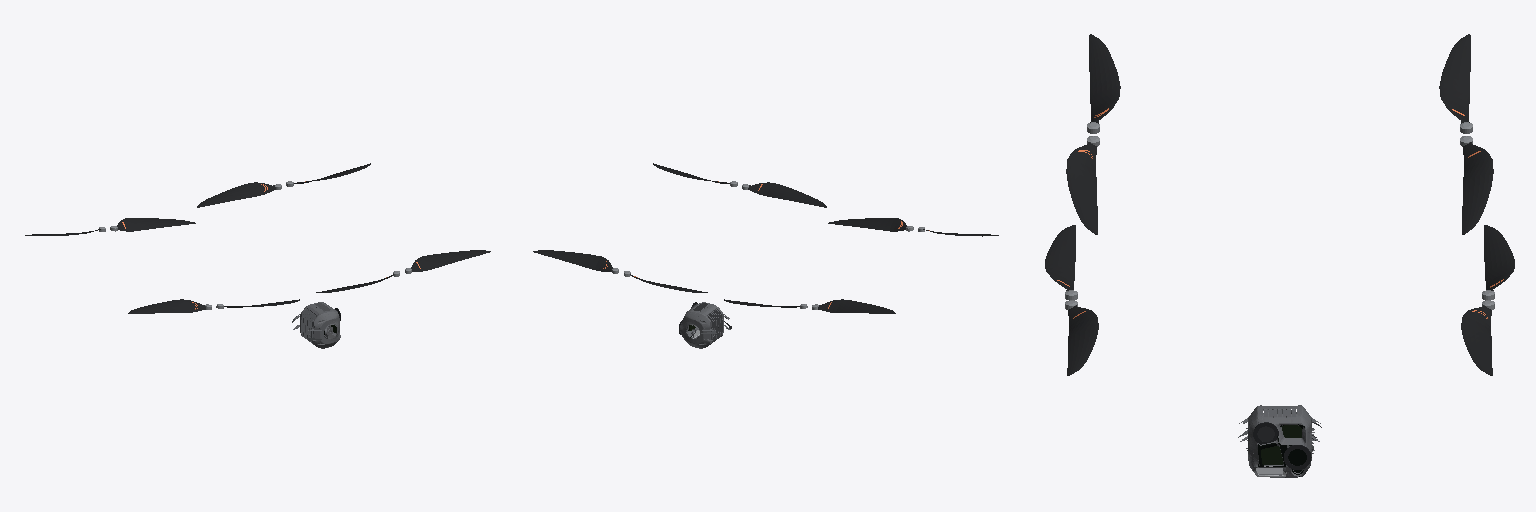
robot.urdf — m4td_moving:
<?xml version='1.0' encoding='utf-8'?>
<!--
The MIT License (MIT)
Copyright © 2026 Swarm

Permission is hereby granted, free of charge, to any person obtaining a copy of this software and associated
documentation files (the “Software”), to deal in the Software without restriction, including without limitation
the rights to use, copy, modify, merge, publish, distribute, sublicense, and/or sell copies of the Software,
and to permit persons to whom the Software is furnished to do so, subject to the following conditions:

The above copyright notice and this permission notice shall be included in all copies or substantial portions of
the Software.

THE SOFTWARE IS PROVIDED “AS IS”, WITHOUT WARRANTY OF ANY KIND, EXPRESS OR IMPLIED, INCLUDING BUT NOT LIMITED TO
THE WARRANTIES OF MERCHANTABILITY, FITNESS FOR A PARTICULAR PURPOSE AND NONINFRINGEMENT. IN NO EVENT SHALL
THE AUTHORS OR COPYRIGHT HOLDERS BE LIABLE FOR ANY CLAIM, DAMAGES OR OTHER LIABILITY, WHETHER IN AN ACTION
OF CONTRACT, TORT OR OTHERWISE, ARISING FROM, OUT OF OR IN CONNECTION WITH THE SOFTWARE OR THE USE OR OTHER
DEALINGS IN THE SOFTWARE.
-->
<robot name="m4td_moving">
  <link name="base_link">
    <inertial>
      <origin rpy="0 0 0" xyz="0 0 0" />
      <mass value="0.001" />
      <inertia ixx="1e-7" ixy="0" ixz="0" iyy="1e-7" iyz="0" izz="1e-7" />
    </inertial>
  </link>
  <link name="gimbal_head">
    <inertial>
      <origin rpy="0 0 0" xyz="0 0 0" />
      <mass value="0.001" />
      <inertia ixx="1e-7" ixy="0" ixz="0" iyy="1e-7" iyz="0" izz="1e-7" />
    </inertial>
    <visual name="head_coated">
      <origin rpy="0 0 0" xyz="0 0 0" />
      <geometry>
        <mesh filename="./m4td/head_coated.obj" scale="1 1 1" />
      </geometry>
      <material name="m4td_coated">
        <color rgba="0.1216 0.1647 0.1098 1" />
      </material>
    </visual>
    <visual name="head_dark">
      <origin rpy="0 0 0" xyz="0 0 0" />
      <geometry>
        <mesh filename="./m4td/head_dark.obj" scale="1 1 1" />
      </geometry>
      <material name="m4td_dark">
        <color rgba="0.1804 0.1882 0.2 1" />
      </material>
    </visual>
    <visual name="head_germanium">
      <origin rpy="0 0 0" xyz="0 0 0" />
      <geometry>
        <mesh filename="./m4td/head_germanium.obj" scale="1 1 1" />
      </geometry>
      <material name="m4td_germanium">
        <color rgba="0.2314 0.2353 0.251 1" />
      </material>
    </visual>
    <visual name="head_gimbal">
      <origin rpy="0 0 0" xyz="0 0 0" />
      <geometry>
        <mesh filename="./m4td/head_gimbal.obj" scale="1 1 1" />
      </geometry>
      <material name="m4td_gimbal">
        <color rgba="0.4235 0.4314 0.4471 1" />
      </material>
    </visual>
    <visual name="head_glass">
      <origin rpy="0 0 0" xyz="0 0 0" />
      <geometry>
        <mesh filename="./m4td/head_glass.obj" scale="1 1 1" />
      </geometry>
      <material name="m4td_glass">
        <color rgba="0.0627 0.0824 0.0706 1" />
      </material>
    </visual>
    <visual name="head_laser">
      <origin rpy="0 0 0" xyz="0 0 0" />
      <geometry>
        <mesh filename="./m4td/head_laser.obj" scale="1 1 1" />
      </geometry>
      <material name="m4td_laser">
        <color rgba="0.7882 0.8 0.8157 1" />
      </material>
    </visual>
  </link>
  <joint name="gimbal_tilt" type="revolute">
    <parent link="base_link" />
    <child link="gimbal_head" />
    <origin rpy="0 0 0" xyz="0.1295 0 -0.034" />
    <axis xyz="0 -1 0" />
    <limit effort="0" lower="-1.5708" upper="1.5708" velocity="1.7453" />
  </joint>
  <link name="rotor0">
    <inertial>
      <origin rpy="0 0 0" xyz="0 0 0" />
      <mass value="0.001" />
      <inertia ixx="1e-7" ixy="0" ixz="0" iyy="1e-7" iyz="0" izz="1e-7" />
    </inertial>
  </link>
  <joint name="rotor0_spin" type="continuous">
    <parent link="base_link" />
    <child link="rotor0" />
    <origin rpy="0 0 0" xyz="0.17065 -0.1915 0.1281" />
    <axis xyz="0 0 1" />
  </joint>
  <link name="rotor0_blade0">
    <inertial>
      <origin rpy="0 0 0" xyz="0 0 0" />
      <mass value="0.001" />
      <inertia ixx="1e-7" ixy="0" ixz="0" iyy="1e-7" iyz="0" izz="1e-7" />
    </inertial>
    <visual name="blade_ccw_blade">
      <origin rpy="0 0 0" xyz="-0.011 0 0" />
      <geometry>
        <mesh filename="./m4td/blade_ccw_blade.obj" scale="1 1 1" />
      </geometry>
      <material name="m4td_blade">
        <color rgba="0.1804 0.1843 0.1922 1" />
      </material>
    </visual>
    <visual name="blade_ccw_mark">
      <origin rpy="0 0 0" xyz="-0.011 0 0" />
      <geometry>
        <mesh filename="./m4td/blade_ccw_mark.obj" scale="1 1 1" />
      </geometry>
      <material name="m4td_mark">
        <color rgba="0.9176 0.5373 0.3647 1" />
      </material>
    </visual>
    <visual name="blade_ccw_eyelet">
      <origin rpy="0 0 0" xyz="-0.011 0 0" />
      <geometry>
        <mesh filename="./m4td/blade_ccw_eyelet.obj" scale="1 1 1" />
      </geometry>
      <material name="m4td_eyelet">
        <color rgba="0.5529 0.5647 0.5804 1" />
      </material>
    </visual>
  </link>
  <joint name="rotor0_fold0" type="revolute">
    <parent link="rotor0" />
    <child link="rotor0_blade0" />
    <origin rpy="0 0 0" xyz="0.011 0 0" />
    <axis xyz="0 0 1" />
    <limit effort="0" lower="-3.1416" upper="3.1416" velocity="100" />
  </joint>
  <link name="rotor0_blade1">
    <inertial>
      <origin rpy="0 0 0" xyz="0 0 0" />
      <mass value="0.001" />
      <inertia ixx="1e-7" ixy="0" ixz="0" iyy="1e-7" iyz="0" izz="1e-7" />
    </inertial>
    <visual name="blade_ccw_blade">
      <origin rpy="0 0 0" xyz="-0.011 0 0" />
      <geometry>
        <mesh filename="./m4td/blade_ccw_blade.obj" scale="1 1 1" />
      </geometry>
      <material name="m4td_blade">
        <color rgba="0.1804 0.1843 0.1922 1" />
      </material>
    </visual>
    <visual name="blade_ccw_mark">
      <origin rpy="0 0 0" xyz="-0.011 0 0" />
      <geometry>
        <mesh filename="./m4td/blade_ccw_mark.obj" scale="1 1 1" />
      </geometry>
      <material name="m4td_mark">
        <color rgba="0.9176 0.5373 0.3647 1" />
      </material>
    </visual>
    <visual name="blade_ccw_eyelet">
      <origin rpy="0 0 0" xyz="-0.011 0 0" />
      <geometry>
        <mesh filename="./m4td/blade_ccw_eyelet.obj" scale="1 1 1" />
      </geometry>
      <material name="m4td_eyelet">
        <color rgba="0.5529 0.5647 0.5804 1" />
      </material>
    </visual>
  </link>
  <joint name="rotor0_fold1" type="revolute">
    <parent link="rotor0" />
    <child link="rotor0_blade1" />
    <origin rpy="0 0 3.141593" xyz="-0.011 0 0" />
    <axis xyz="0 0 1" />
    <limit effort="0" lower="-3.1416" upper="3.1416" velocity="100" />
  </joint>
  <link name="rotor1">
    <inertial>
      <origin rpy="0 0 0" xyz="0 0 0" />
      <mass value="0.001" />
      <inertia ixx="1e-7" ixy="0" ixz="0" iyy="1e-7" iyz="0" izz="1e-7" />
    </inertial>
  </link>
  <joint name="rotor1_spin" type="continuous">
    <parent link="base_link" />
    <child link="rotor1" />
    <origin rpy="0 0.16057 0" xyz="-0.168939 -0.1715 0.137862" />
    <axis xyz="0 0 1" />
  </joint>
  <link name="rotor1_blade0">
    <inertial>
      <origin rpy="0 0 0" xyz="0 0 0" />
      <mass value="0.001" />
      <inertia ixx="1e-7" ixy="0" ixz="0" iyy="1e-7" iyz="0" izz="1e-7" />
    </inertial>
    <visual name="blade_cw_blade">
      <origin rpy="0 0 0" xyz="-0.011 0 0" />
      <geometry>
        <mesh filename="./m4td/blade_cw_blade.obj" scale="1 1 1" />
      </geometry>
      <material name="m4td_blade">
        <color rgba="0.1804 0.1843 0.1922 1" />
      </material>
    </visual>
    <visual name="blade_cw_mark">
      <origin rpy="0 0 0" xyz="-0.011 0 0" />
      <geometry>
        <mesh filename="./m4td/blade_cw_mark.obj" scale="1 1 1" />
      </geometry>
      <material name="m4td_mark">
        <color rgba="0.9176 0.5373 0.3647 1" />
      </material>
    </visual>
    <visual name="blade_cw_eyelet">
      <origin rpy="0 0 0" xyz="-0.011 0 0" />
      <geometry>
        <mesh filename="./m4td/blade_cw_eyelet.obj" scale="1 1 1" />
      </geometry>
      <material name="m4td_eyelet">
        <color rgba="0.5529 0.5647 0.5804 1" />
      </material>
    </visual>
  </link>
  <joint name="rotor1_fold0" type="revolute">
    <parent link="rotor1" />
    <child link="rotor1_blade0" />
    <origin rpy="0 0 0" xyz="0.011 0 0" />
    <axis xyz="0 0 -1" />
    <limit effort="0" lower="-3.1416" upper="3.1416" velocity="100" />
  </joint>
  <link name="rotor1_blade1">
    <inertial>
      <origin rpy="0 0 0" xyz="0 0 0" />
      <mass value="0.001" />
      <inertia ixx="1e-7" ixy="0" ixz="0" iyy="1e-7" iyz="0" izz="1e-7" />
    </inertial>
    <visual name="blade_cw_blade">
      <origin rpy="0 0 0" xyz="-0.011 0 0" />
      <geometry>
        <mesh filename="./m4td/blade_cw_blade.obj" scale="1 1 1" />
      </geometry>
      <material name="m4td_blade">
        <color rgba="0.1804 0.1843 0.1922 1" />
      </material>
    </visual>
    <visual name="blade_cw_mark">
      <origin rpy="0 0 0" xyz="-0.011 0 0" />
      <geometry>
        <mesh filename="./m4td/blade_cw_mark.obj" scale="1 1 1" />
      </geometry>
      <material name="m4td_mark">
        <color rgba="0.9176 0.5373 0.3647 1" />
      </material>
    </visual>
    <visual name="blade_cw_eyelet">
      <origin rpy="0 0 0" xyz="-0.011 0 0" />
      <geometry>
        <mesh filename="./m4td/blade_cw_eyelet.obj" scale="1 1 1" />
      </geometry>
      <material name="m4td_eyelet">
        <color rgba="0.5529 0.5647 0.5804 1" />
      </material>
    </visual>
  </link>
  <joint name="rotor1_fold1" type="revolute">
    <parent link="rotor1" />
    <child link="rotor1_blade1" />
    <origin rpy="0 0 3.141593" xyz="-0.011 0 0" />
    <axis xyz="0 0 -1" />
    <limit effort="0" lower="-3.1416" upper="3.1416" velocity="100" />
  </joint>
  <link name="rotor2">
    <inertial>
      <origin rpy="0 0 0" xyz="0 0 0" />
      <mass value="0.001" />
      <inertia ixx="1e-7" ixy="0" ixz="0" iyy="1e-7" iyz="0" izz="1e-7" />
    </inertial>
  </link>
  <joint name="rotor2_spin" type="continuous">
    <parent link="base_link" />
    <child link="rotor2" />
    <origin rpy="0 0.16057 0" xyz="-0.168939 0.1715 0.137862" />
    <axis xyz="0 0 1" />
  </joint>
  <link name="rotor2_blade0">
    <inertial>
      <origin rpy="0 0 0" xyz="0 0 0" />
      <mass value="0.001" />
      <inertia ixx="1e-7" ixy="0" ixz="0" iyy="1e-7" iyz="0" izz="1e-7" />
    </inertial>
    <visual name="blade_ccw_blade">
      <origin rpy="0 0 0" xyz="-0.011 0 0" />
      <geometry>
        <mesh filename="./m4td/blade_ccw_blade.obj" scale="1 1 1" />
      </geometry>
      <material name="m4td_blade">
        <color rgba="0.1804 0.1843 0.1922 1" />
      </material>
    </visual>
    <visual name="blade_ccw_mark">
      <origin rpy="0 0 0" xyz="-0.011 0 0" />
      <geometry>
        <mesh filename="./m4td/blade_ccw_mark.obj" scale="1 1 1" />
      </geometry>
      <material name="m4td_mark">
        <color rgba="0.9176 0.5373 0.3647 1" />
      </material>
    </visual>
    <visual name="blade_ccw_eyelet">
      <origin rpy="0 0 0" xyz="-0.011 0 0" />
      <geometry>
        <mesh filename="./m4td/blade_ccw_eyelet.obj" scale="1 1 1" />
      </geometry>
      <material name="m4td_eyelet">
        <color rgba="0.5529 0.5647 0.5804 1" />
      </material>
    </visual>
  </link>
  <joint name="rotor2_fold0" type="revolute">
    <parent link="rotor2" />
    <child link="rotor2_blade0" />
    <origin rpy="0 0 0" xyz="0.011 0 0" />
    <axis xyz="0 0 1" />
    <limit effort="0" lower="-3.1416" upper="3.1416" velocity="100" />
  </joint>
  <link name="rotor2_blade1">
    <inertial>
      <origin rpy="0 0 0" xyz="0 0 0" />
      <mass value="0.001" />
      <inertia ixx="1e-7" ixy="0" ixz="0" iyy="1e-7" iyz="0" izz="1e-7" />
    </inertial>
    <visual name="blade_ccw_blade">
      <origin rpy="0 0 0" xyz="-0.011 0 0" />
      <geometry>
        <mesh filename="./m4td/blade_ccw_blade.obj" scale="1 1 1" />
      </geometry>
      <material name="m4td_blade">
        <color rgba="0.1804 0.1843 0.1922 1" />
      </material>
    </visual>
    <visual name="blade_ccw_mark">
      <origin rpy="0 0 0" xyz="-0.011 0 0" />
      <geometry>
        <mesh filename="./m4td/blade_ccw_mark.obj" scale="1 1 1" />
      </geometry>
      <material name="m4td_mark">
        <color rgba="0.9176 0.5373 0.3647 1" />
      </material>
    </visual>
    <visual name="blade_ccw_eyelet">
      <origin rpy="0 0 0" xyz="-0.011 0 0" />
      <geometry>
        <mesh filename="./m4td/blade_ccw_eyelet.obj" scale="1 1 1" />
      </geometry>
      <material name="m4td_eyelet">
        <color rgba="0.5529 0.5647 0.5804 1" />
      </material>
    </visual>
  </link>
  <joint name="rotor2_fold1" type="revolute">
    <parent link="rotor2" />
    <child link="rotor2_blade1" />
    <origin rpy="0 0 3.141593" xyz="-0.011 0 0" />
    <axis xyz="0 0 1" />
    <limit effort="0" lower="-3.1416" upper="3.1416" velocity="100" />
  </joint>
  <link name="rotor3">
    <inertial>
      <origin rpy="0 0 0" xyz="0 0 0" />
      <mass value="0.001" />
      <inertia ixx="1e-7" ixy="0" ixz="0" iyy="1e-7" iyz="0" izz="1e-7" />
    </inertial>
  </link>
  <joint name="rotor3_spin" type="continuous">
    <parent link="base_link" />
    <child link="rotor3" />
    <origin rpy="0 0 0" xyz="0.17065 0.1915 0.1281" />
    <axis xyz="0 0 1" />
  </joint>
  <link name="rotor3_blade0">
    <inertial>
      <origin rpy="0 0 0" xyz="0 0 0" />
      <mass value="0.001" />
      <inertia ixx="1e-7" ixy="0" ixz="0" iyy="1e-7" iyz="0" izz="1e-7" />
    </inertial>
    <visual name="blade_cw_blade">
      <origin rpy="0 0 0" xyz="-0.011 0 0" />
      <geometry>
        <mesh filename="./m4td/blade_cw_blade.obj" scale="1 1 1" />
      </geometry>
      <material name="m4td_blade">
        <color rgba="0.1804 0.1843 0.1922 1" />
      </material>
    </visual>
    <visual name="blade_cw_mark">
      <origin rpy="0 0 0" xyz="-0.011 0 0" />
      <geometry>
        <mesh filename="./m4td/blade_cw_mark.obj" scale="1 1 1" />
      </geometry>
      <material name="m4td_mark">
        <color rgba="0.9176 0.5373 0.3647 1" />
      </material>
    </visual>
    <visual name="blade_cw_eyelet">
      <origin rpy="0 0 0" xyz="-0.011 0 0" />
      <geometry>
        <mesh filename="./m4td/blade_cw_eyelet.obj" scale="1 1 1" />
      </geometry>
      <material name="m4td_eyelet">
        <color rgba="0.5529 0.5647 0.5804 1" />
      </material>
    </visual>
  </link>
  <joint name="rotor3_fold0" type="revolute">
    <parent link="rotor3" />
    <child link="rotor3_blade0" />
    <origin rpy="0 0 0" xyz="0.011 0 0" />
    <axis xyz="0 0 -1" />
    <limit effort="0" lower="-3.1416" upper="3.1416" velocity="100" />
  </joint>
  <link name="rotor3_blade1">
    <inertial>
      <origin rpy="0 0 0" xyz="0 0 0" />
      <mass value="0.001" />
      <inertia ixx="1e-7" ixy="0" ixz="0" iyy="1e-7" iyz="0" izz="1e-7" />
    </inertial>
    <visual name="blade_cw_blade">
      <origin rpy="0 0 0" xyz="-0.011 0 0" />
      <geometry>
        <mesh filename="./m4td/blade_cw_blade.obj" scale="1 1 1" />
      </geometry>
      <material name="m4td_blade">
        <color rgba="0.1804 0.1843 0.1922 1" />
      </material>
    </visual>
    <visual name="blade_cw_mark">
      <origin rpy="0 0 0" xyz="-0.011 0 0" />
      <geometry>
        <mesh filename="./m4td/blade_cw_mark.obj" scale="1 1 1" />
      </geometry>
      <material name="m4td_mark">
        <color rgba="0.9176 0.5373 0.3647 1" />
      </material>
    </visual>
    <visual name="blade_cw_eyelet">
      <origin rpy="0 0 0" xyz="-0.011 0 0" />
      <geometry>
        <mesh filename="./m4td/blade_cw_eyelet.obj" scale="1 1 1" />
      </geometry>
      <material name="m4td_eyelet">
        <color rgba="0.5529 0.5647 0.5804 1" />
      </material>
    </visual>
  </link>
  <joint name="rotor3_fold1" type="revolute">
    <parent link="rotor3" />
    <child link="rotor3_blade1" />
    <origin rpy="0 0 3.141593" xyz="-0.011 0 0" />
    <axis xyz="0 0 -1" />
    <limit effort="0" lower="-3.1416" upper="3.1416" velocity="100" />
  </joint>
</robot>

--- Render facts (derived) ---
The picture shows the robot from 3 angles, left to right: view 1: azimuth 30°, elevation 25°; view 2: azimuth 150°, elevation 25°; view 3: azimuth 270°, elevation 25°; orthographic projection.
Robot: m4td_moving — 14 links, 13 joints (9 revolute, 4 continuous); root link base_link; default pose: all joints at 0.
Links seen in each view (by area): view 1: gimbal_head, rotor3_blade1, rotor0_blade0, rotor1_blade1, rotor2_blade0; view 2: gimbal_head, rotor0_blade1, rotor3_blade0, rotor2_blade1, rotor1_blade0; view 3: gimbal_head, rotor1_blade0, rotor2_blade0, rotor1_blade1, rotor2_blade1, rotor0_blade0, rotor3_blade0, rotor0_blade1, rotor3_blade1.
Link boxes in pixels (x1=…): gimbal_head: x1=292, y1=302, x2=340, y2=348; rotor3_blade1: x1=197, y1=182, x2=281, y2=207; rotor0_blade0: x1=405, y1=250, x2=490, y2=273; rotor1_blade1: x1=128, y1=299, x2=211, y2=313; rotor2_blade0: x1=110, y1=218, x2=195, y2=231; gimbal_head: x1=679, y1=302, x2=731, y2=348; rotor0_blade1: x1=742, y1=182, x2=826, y2=207; rotor3_blade0: x1=533, y1=250, x2=618, y2=273; rotor2_blade1: x1=812, y1=299, x2=895, y2=313; rotor1_blade0: x1=828, y1=218, x2=913, y2=231; gimbal_head: x1=1238, y1=405, x2=1321, y2=477; rotor1_blade0: x1=1066, y1=136, x2=1099, y2=234; rotor2_blade0: x1=1460, y1=136, x2=1493, y2=234; rotor1_blade1: x1=1087, y1=34, x2=1120, y2=133; rotor2_blade1: x1=1439, y1=34, x2=1472, y2=133; rotor0_blade0: x1=1065, y1=300, x2=1098, y2=375; rotor3_blade0: x1=1461, y1=300, x2=1494, y2=375; rotor0_blade1: x1=1045, y1=225, x2=1077, y2=300; rotor3_blade1: x1=1482, y1=225, x2=1514, y2=300.
Bounding box of the posed robot: 0.6645 × 0.4331 × 0.2315 m (x, y, z).
30 mesh visuals loaded from 12 distinct referenced files (12 OBJ).
